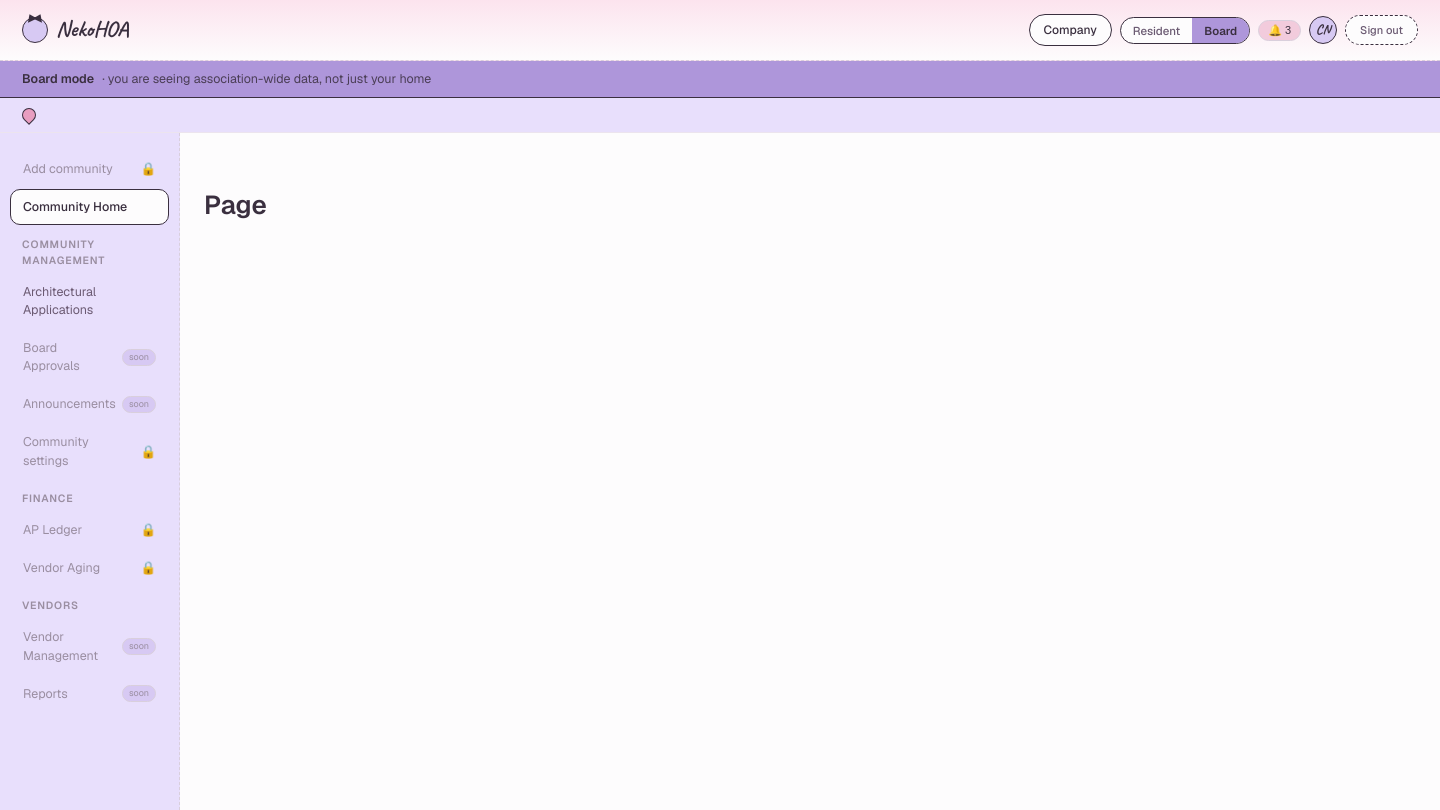
Test: ShellComponent — company area (030 T069) › choosing an item opens that page in the company shell
Click the button with aria-label "Company area menu" at coordinates (1070, 30), box [1029, 14, 1112, 46]
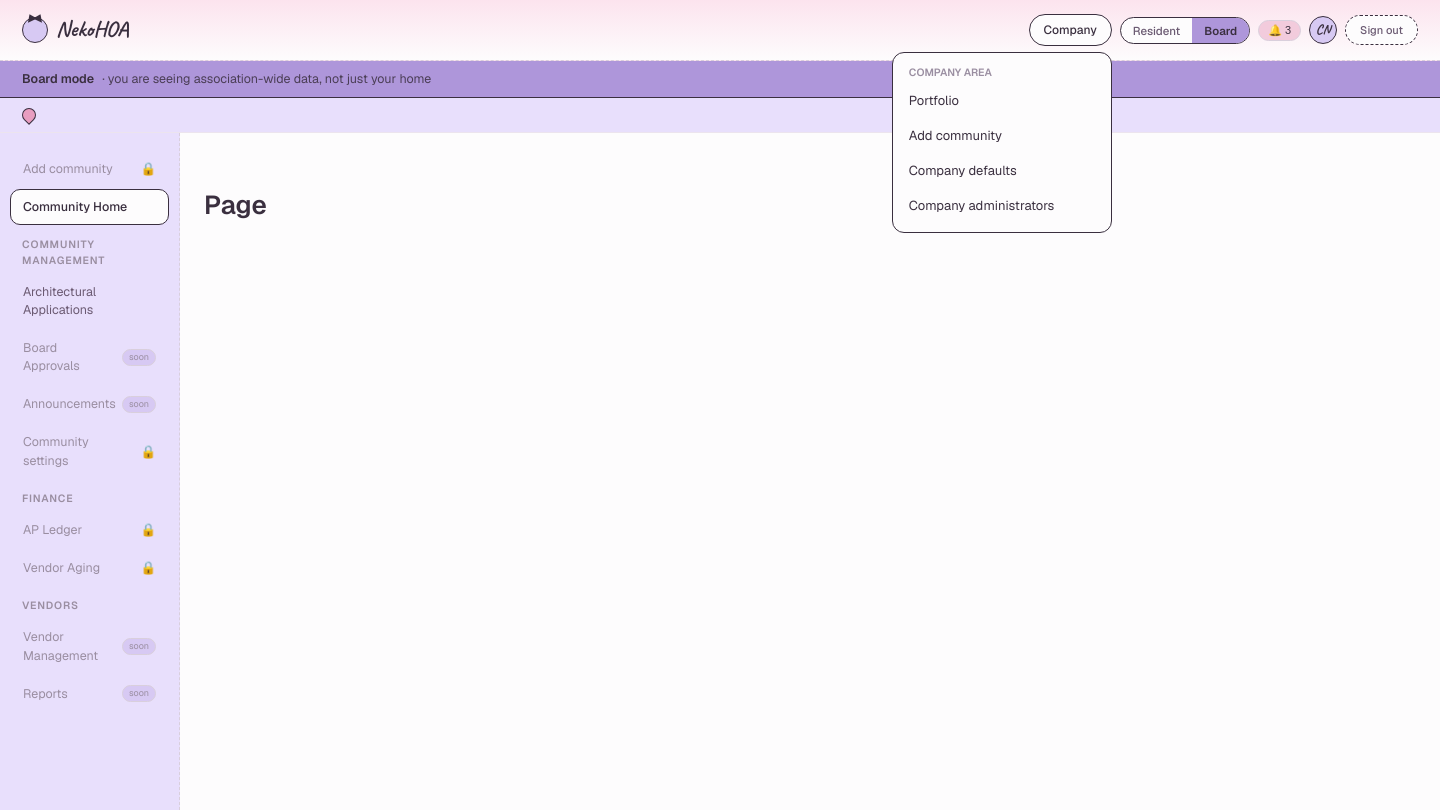
Click the menu item to "/app/company/defaults" at coordinates (963, 170), box [909, 162, 1017, 179]
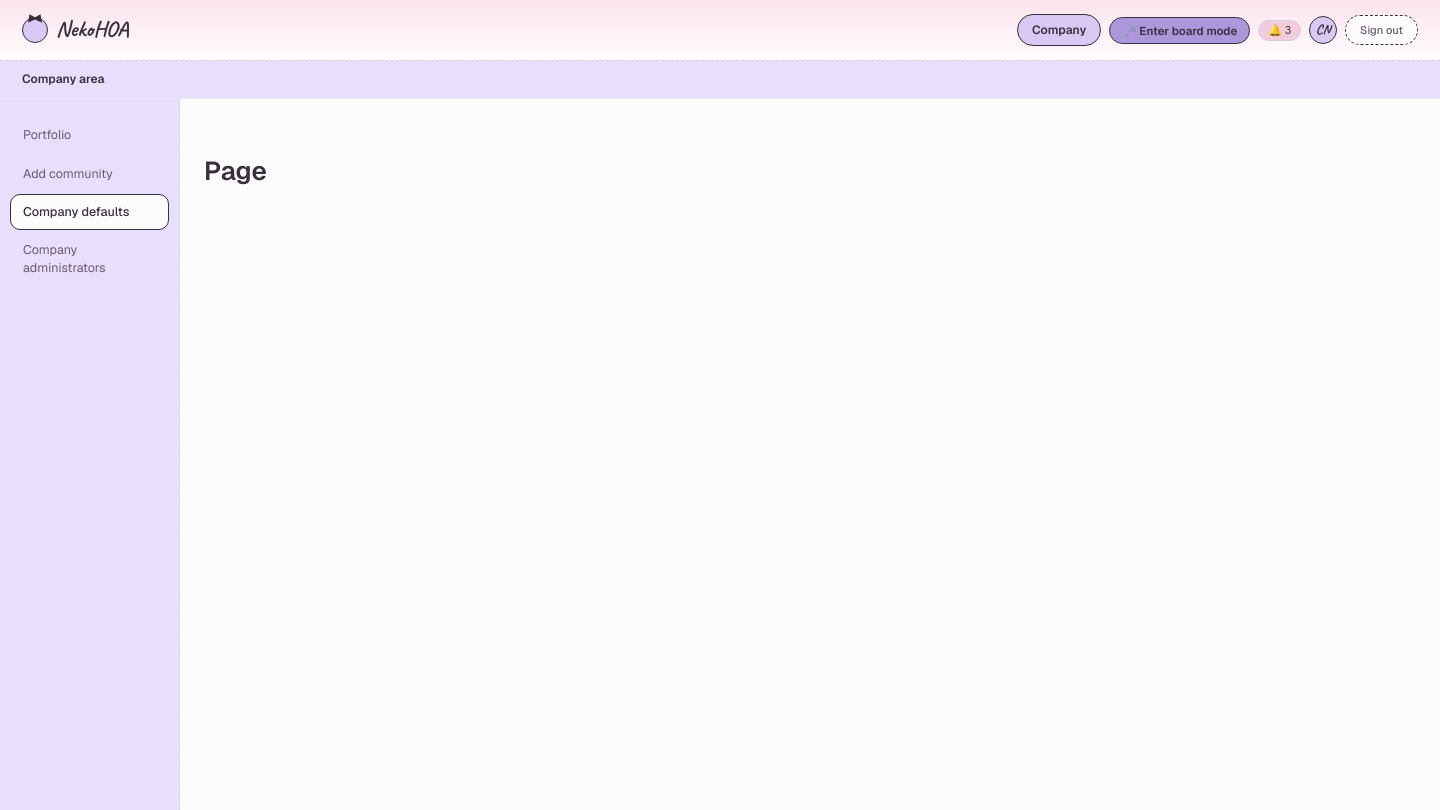
Expected: the menu is gone
